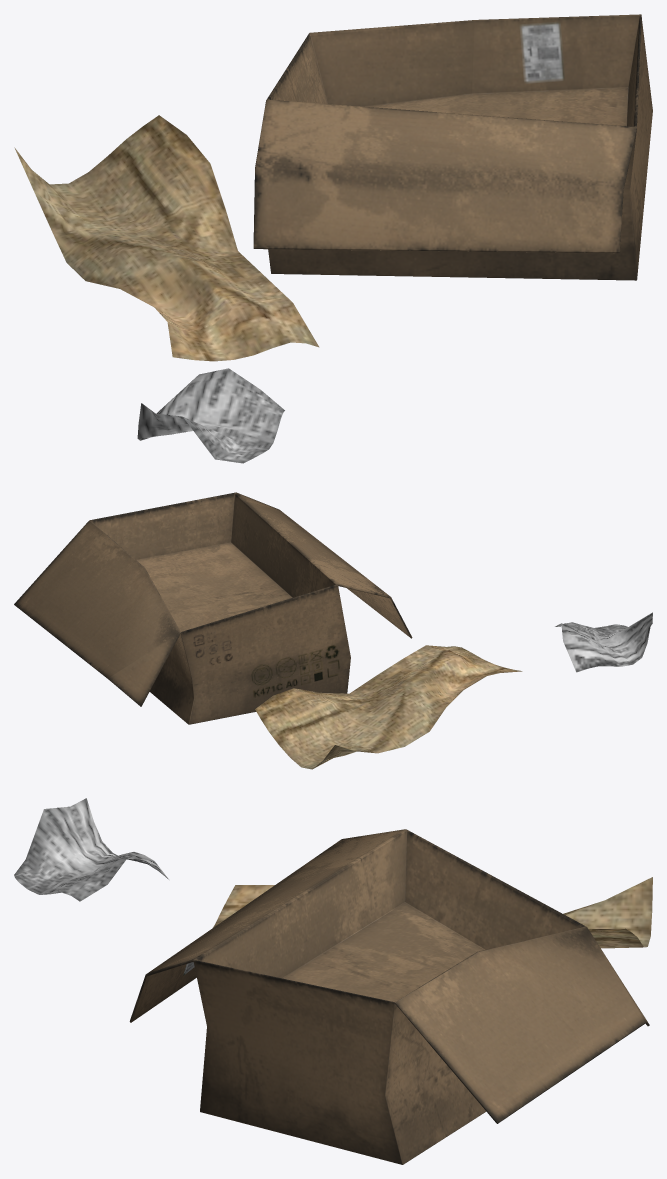
File: Prop_GarbageHeap_Box_3.fbx
3 renders of one model, top to bottom at view 1: azimuth 30°, elevation 25°; view 2: azimuth 150°, elevation 25°; view 3: azimuth 270°, elevation 25°, orthographic. The views are drawn at different scales.
Parts seen in each view (by area): view 1: Prop_GarbageHeap_Box_3; view 2: Prop_GarbageHeap_Box_3; view 3: Prop_GarbageHeap_Box_3.
Boxes of the visible parts, bbox=[...] form: Prop_GarbageHeap_Box_3: bbox=[14, 14, 652, 463]; Prop_GarbageHeap_Box_3: bbox=[14, 492, 652, 769]; Prop_GarbageHeap_Box_3: bbox=[14, 798, 652, 1164].
Bounding box in the file's own units: 45.77 × 10.12 × 36.73.
